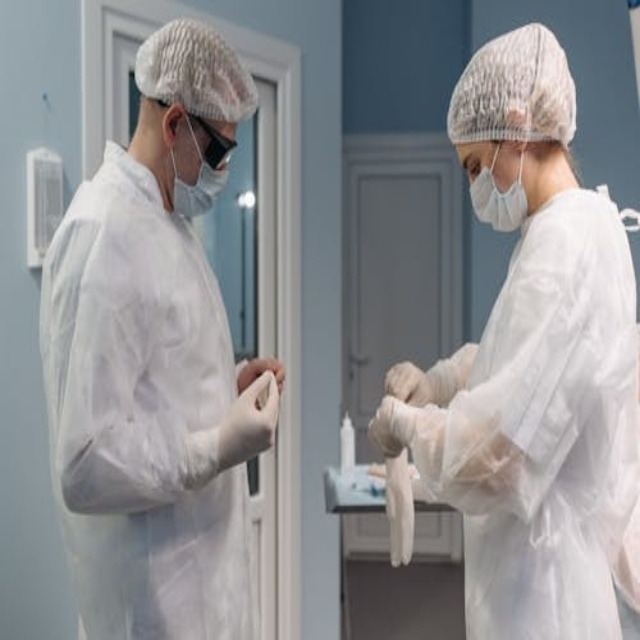Gafas: (162, 102, 238, 170)
Guantes: (206, 368, 297, 481), (358, 391, 426, 462), (376, 347, 438, 408)
Mascara: (168, 114, 231, 219), (469, 140, 530, 233)
Sin_gafas: (463, 145, 488, 183)
Sin_guantes: (236, 355, 286, 400)
